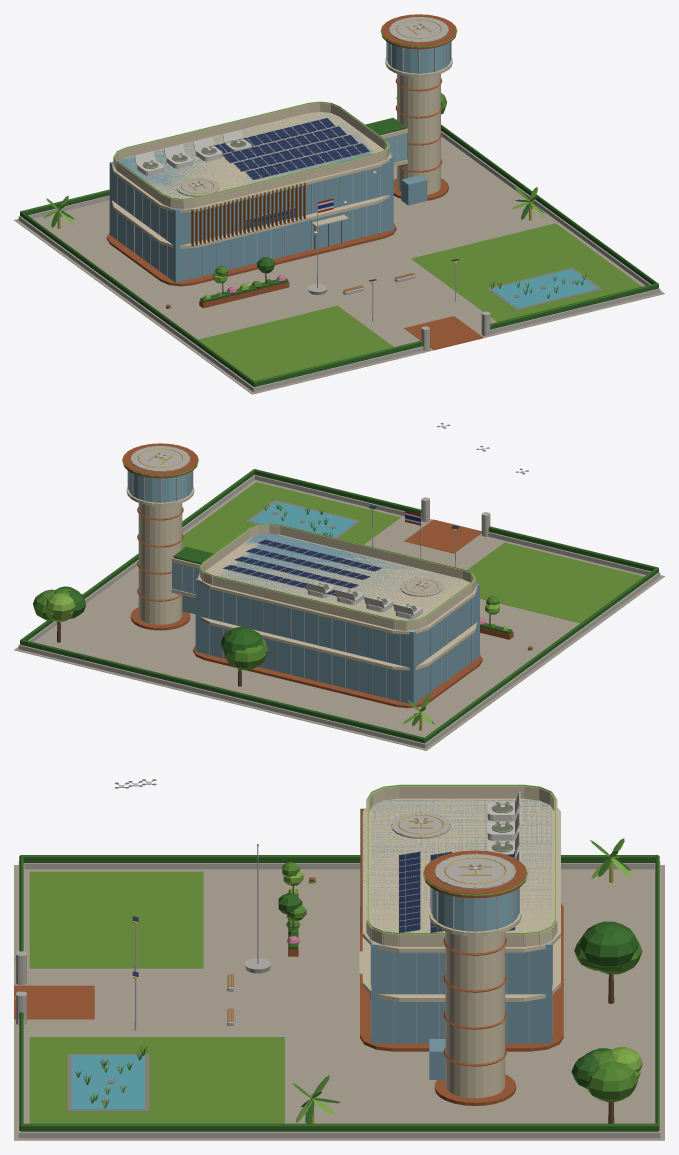
The model's file is police.glb.
3 views of the same model, one above another, from view 1: azimuth 30°, elevation 25°; view 2: azimuth 150°, elevation 25°; view 3: azimuth 270°, elevation 25° (orthographic). The views are drawn at different scales.
Parts seen in each view (by area): view 1: body, windows; view 2: body, windows; view 3: body, windows.
Boxes of the visible parts, bbox=[...] form: body: bbox=[14, 14, 664, 394]; windows: bbox=[114, 17, 489, 333]; body: bbox=[14, 423, 664, 750]; windows: bbox=[122, 446, 475, 621]; body: bbox=[14, 779, 664, 1140]; windows: bbox=[15, 784, 555, 1000].
Bounding box in the file's own units: 47.9 × 18.34 × 47.9.
